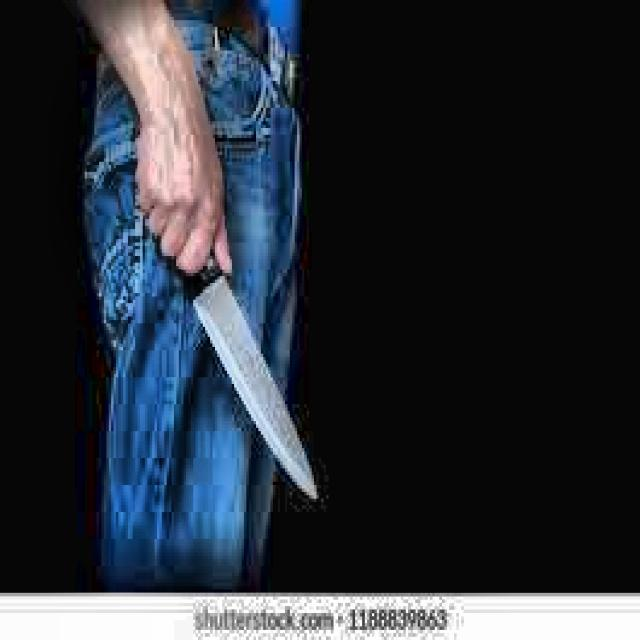knife: (192, 259, 319, 504)
